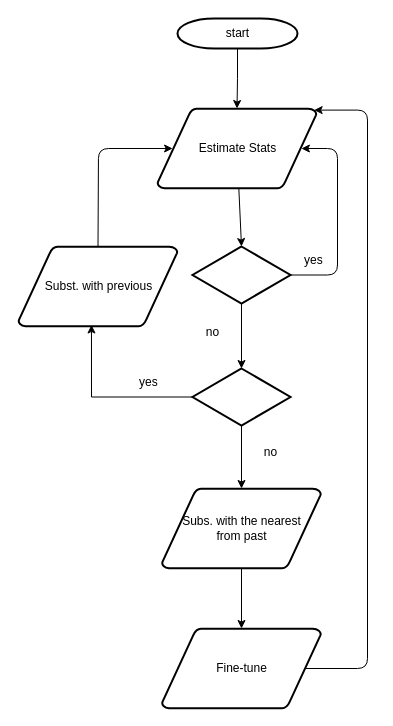
Some shapes in this 393 by 726 pixel diagram are drawn without their labels. The shapes that lost their labels are listed below. From the top down, each one's centre as x and y in pixels, then its label:
At [241,274]: "Similar to Current".
At [241,396]: "Similar to Prev".
